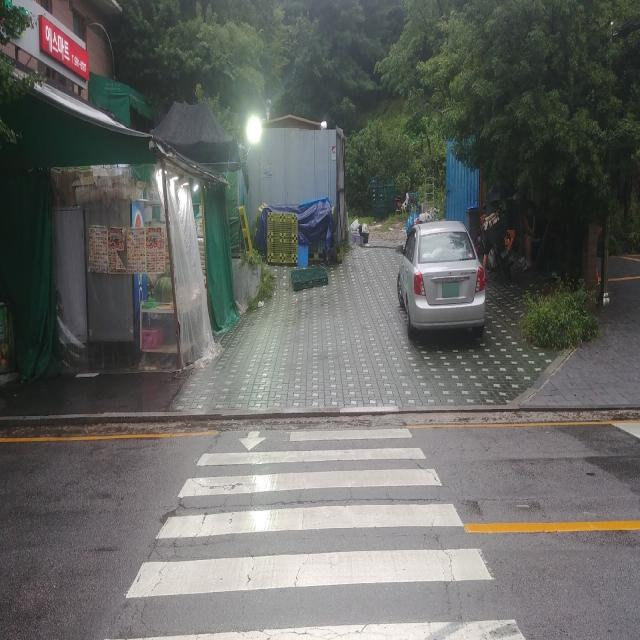횡단보도: (101, 425, 529, 640)
